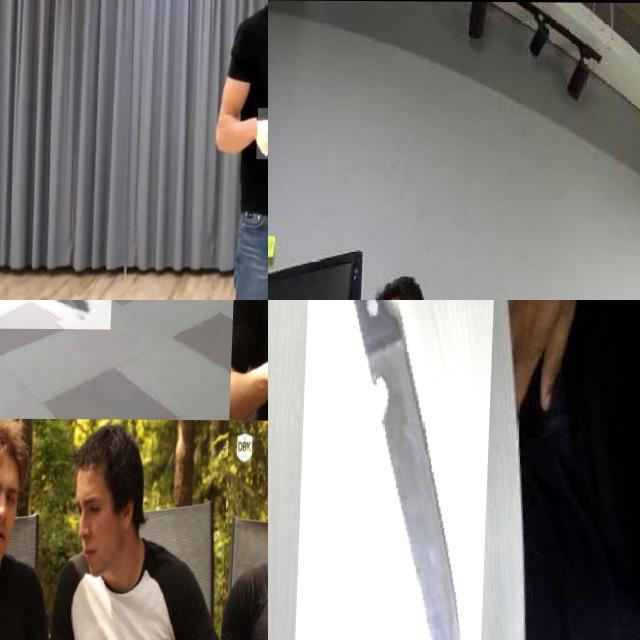-: (298, 300, 502, 640), (0, 300, 115, 350), (258, 107, 268, 159)
